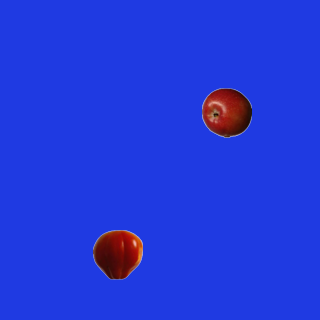Apple Braeburn: (201, 87, 251, 137)
Tomato 1: (92, 229, 142, 279)
